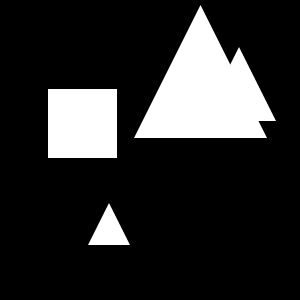circle: (48, 89, 117, 158)
triangle: (134, 5, 267, 138), (202, 47, 276, 121), (88, 203, 130, 245)
